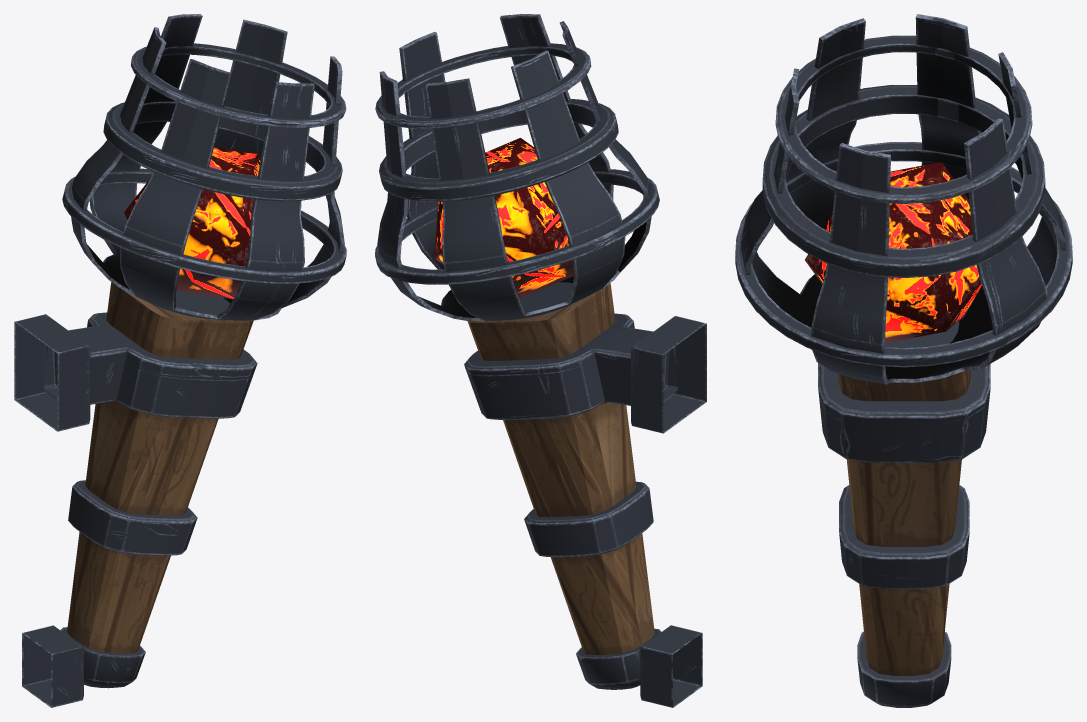
The model's file is stylized_tourch.glb.
The picture shows the model from 3 angles, left to right: view 1: azimuth 30°, elevation 25°; view 2: azimuth 150°, elevation 25°; view 3: azimuth 270°, elevation 25°; orthographic projection. The views are drawn at different scales.
Parts seen in each view (by area): view 1: SM_tourch_tourch_0, SM_tourch_coal_0; view 2: SM_tourch_tourch_0, SM_tourch_coal_0; view 3: SM_tourch_tourch_0, SM_tourch_coal_0.
Boxes of the visible parts, box(x1,y1,x2,y2) form: SM_tourch_tourch_0: box(14, 14, 346, 707); SM_tourch_coal_0: box(124, 147, 260, 299); SM_tourch_tourch_0: box(375, 14, 706, 707); SM_tourch_coal_0: box(434, 138, 573, 298); SM_tourch_tourch_0: box(735, 14, 1072, 707); SM_tourch_coal_0: box(805, 162, 982, 343).
Size of the model in its own units: 0.4369 by 0.8767 by 0.3708.
Materials: 2 (2 with a texture image).
